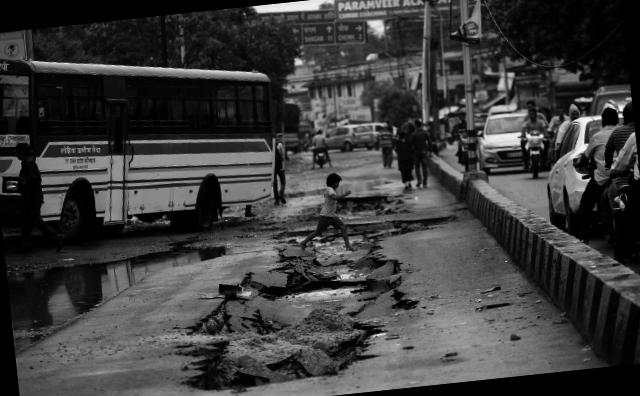Pothole: (173, 248, 474, 396), (256, 152, 468, 287)
